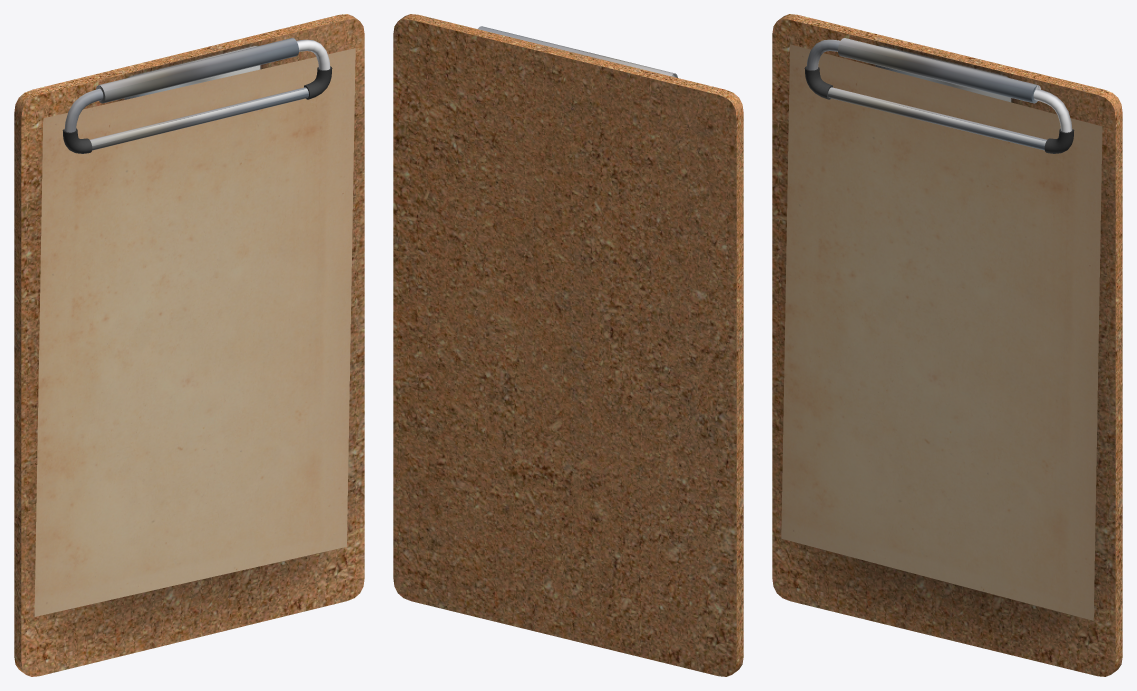
The model's file is Clipboard.fbx.
3 views of the same model, side by side, from view 1: azimuth 30°, elevation 25°; view 2: azimuth 150°, elevation 25°; view 3: azimuth 330°, elevation 25° (orthographic).
Parts seen in each view (by area): view 1: Box001; view 2: Box001; view 3: Box001.
Boxes of the visible parts, x1,y1,x2,y2 form: Box001: (14,14,364,676); Box001: (393,14,743,676); Box001: (772,14,1122,676).
Bounding box in the file's own units: 47.75 × 77.26 × 3.89.
1 material, 1 textured.
